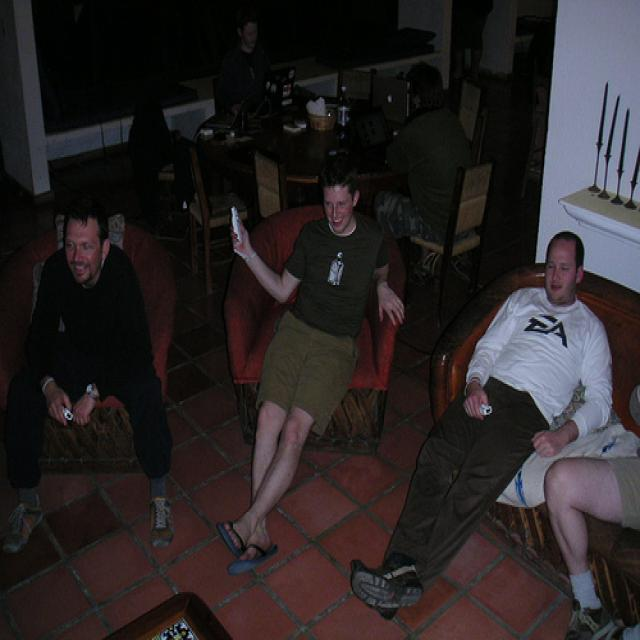People: (364, 237, 610, 628), (242, 144, 361, 607), (0, 188, 130, 582), (524, 377, 639, 640), (185, 12, 282, 126), (398, 61, 458, 243)
chair: (440, 262, 640, 597), (219, 201, 402, 456), (114, 195, 189, 421), (449, 149, 499, 279), (184, 130, 222, 283), (246, 151, 300, 227), (459, 71, 499, 155)
